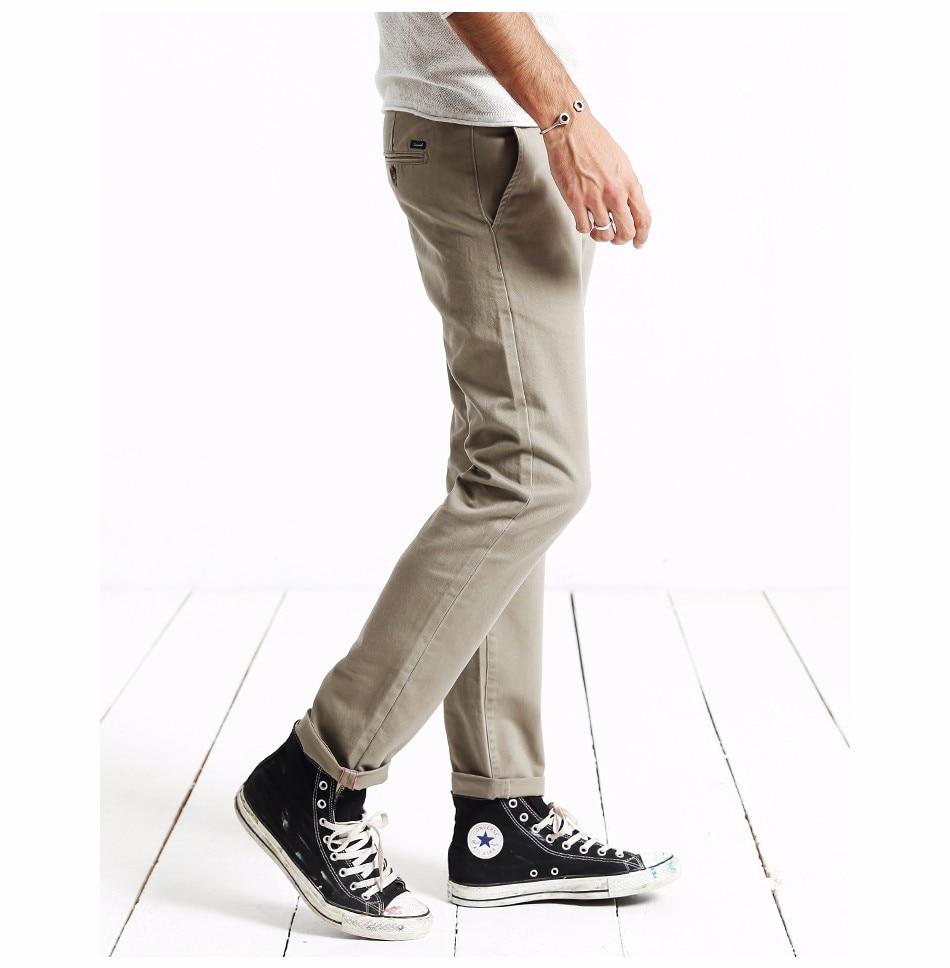pants: (300, 110, 592, 792)
